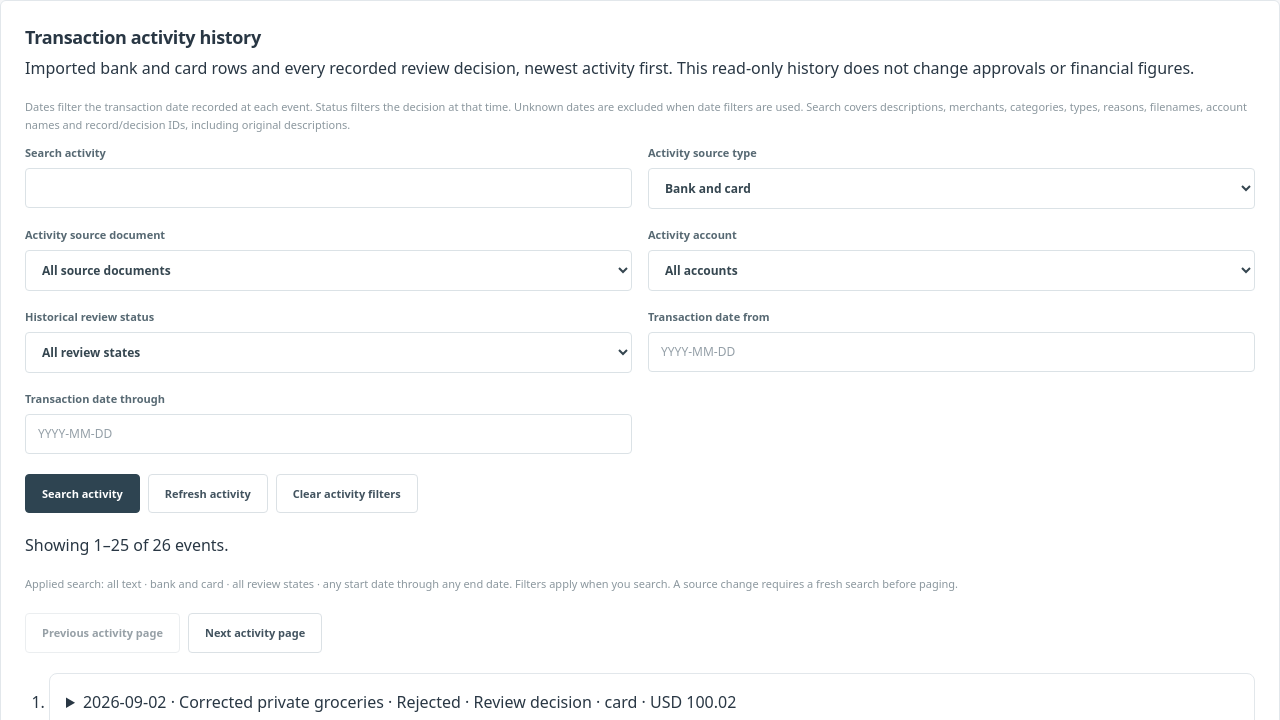
Test case: clears stale results on a paging error, keeps filter choices and explicitly restarts the search
Check: the text "Showing 1–25 of 26 events." is shown, box [25,534,228,556]
Click the button "Next activity page" at [255, 633], box [188,613,322,653]
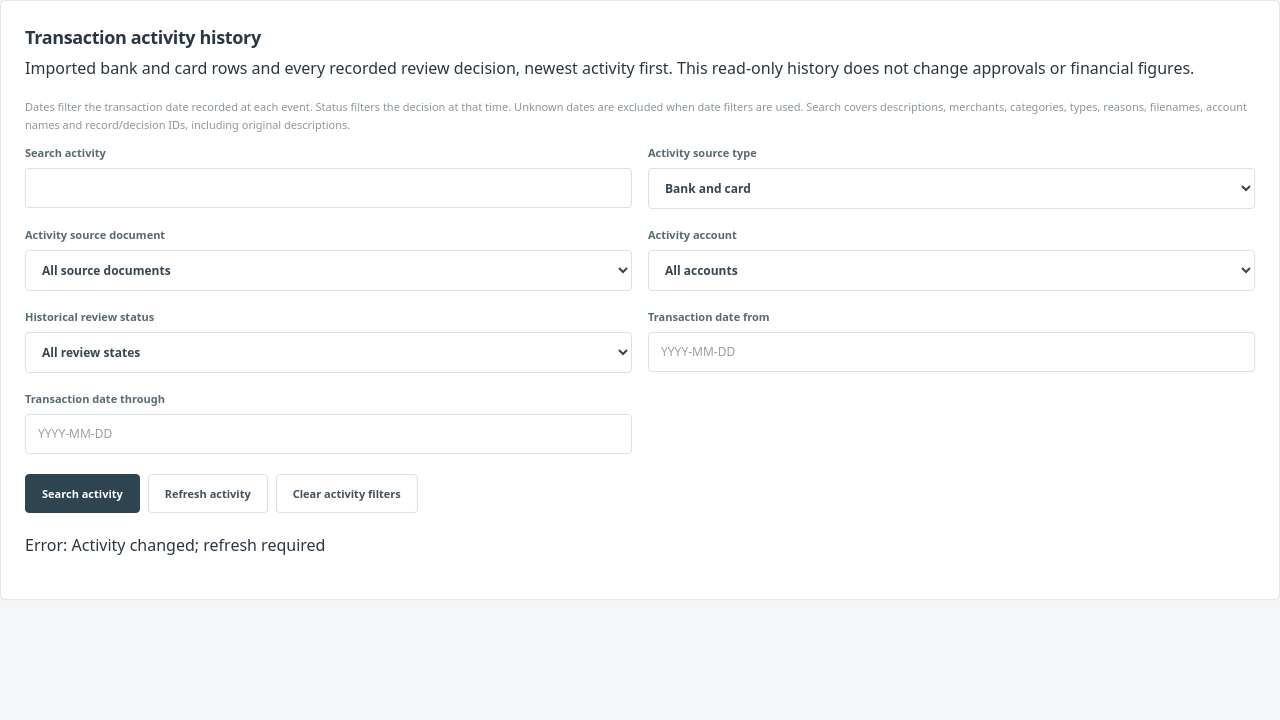
Check: the message shows "Activity changed", box [25,534,325,556]
Check: the heading "Corrected private" is gone
Click the button "Refresh activity" at [208, 494], box [148,474,268,514]
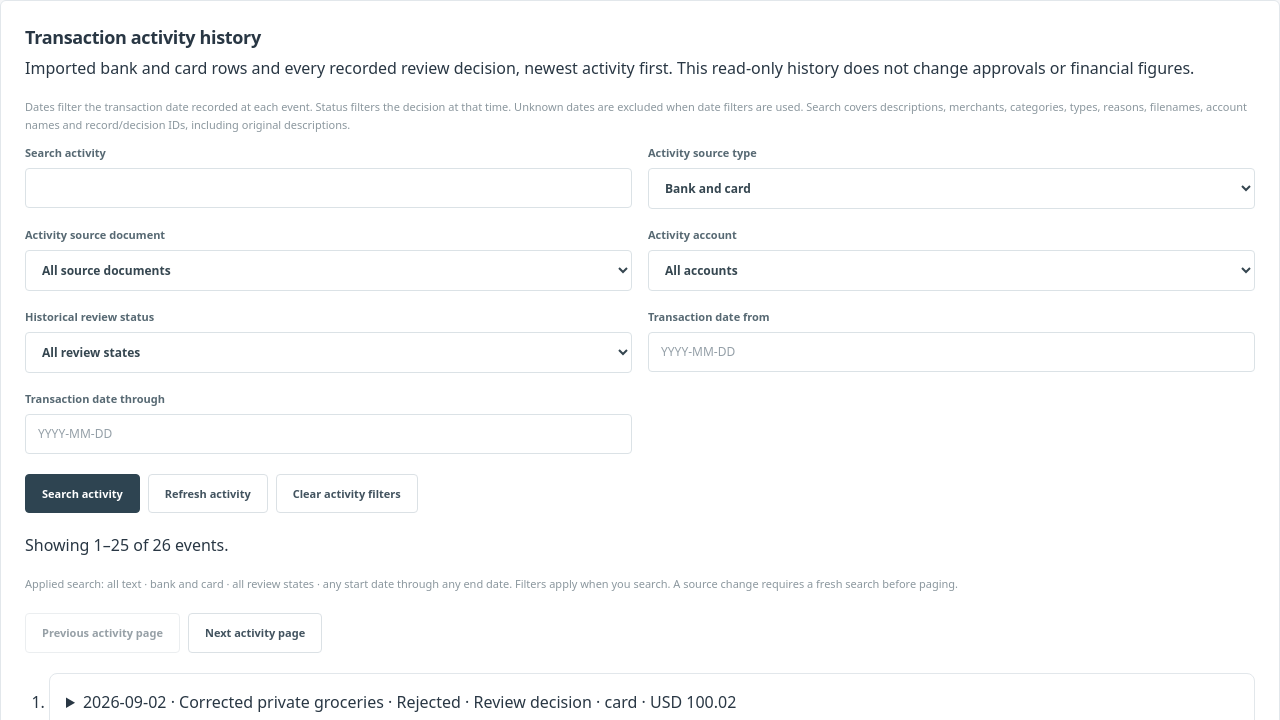
Check: the text "Showing 1–25 of 26 events." is shown, box [25,534,228,556]
